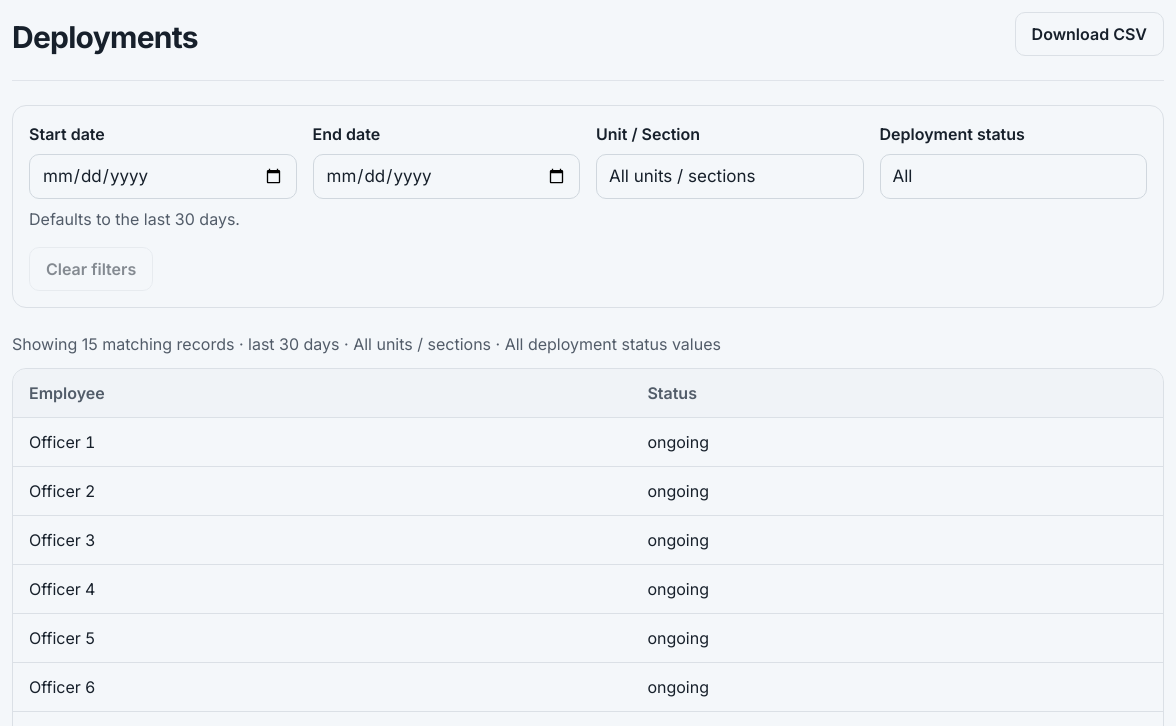
Test case: ReportDetail export (every page, not only the one on screen) › says so when the full report cannot be fetched
Step 1. Click the button "Download CSV" → (1089, 34), box [1015,12,1164,56]
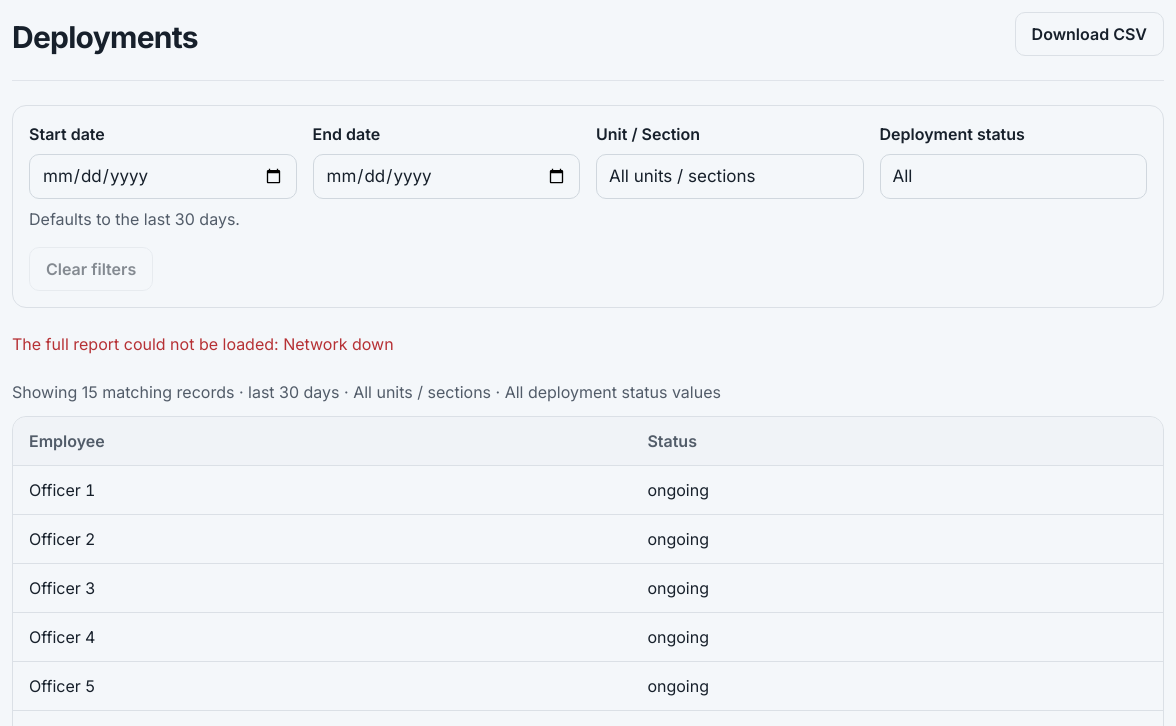
expect the text "The full report could not be loaded: Network down" is shown: met, box [12,334,394,354]
